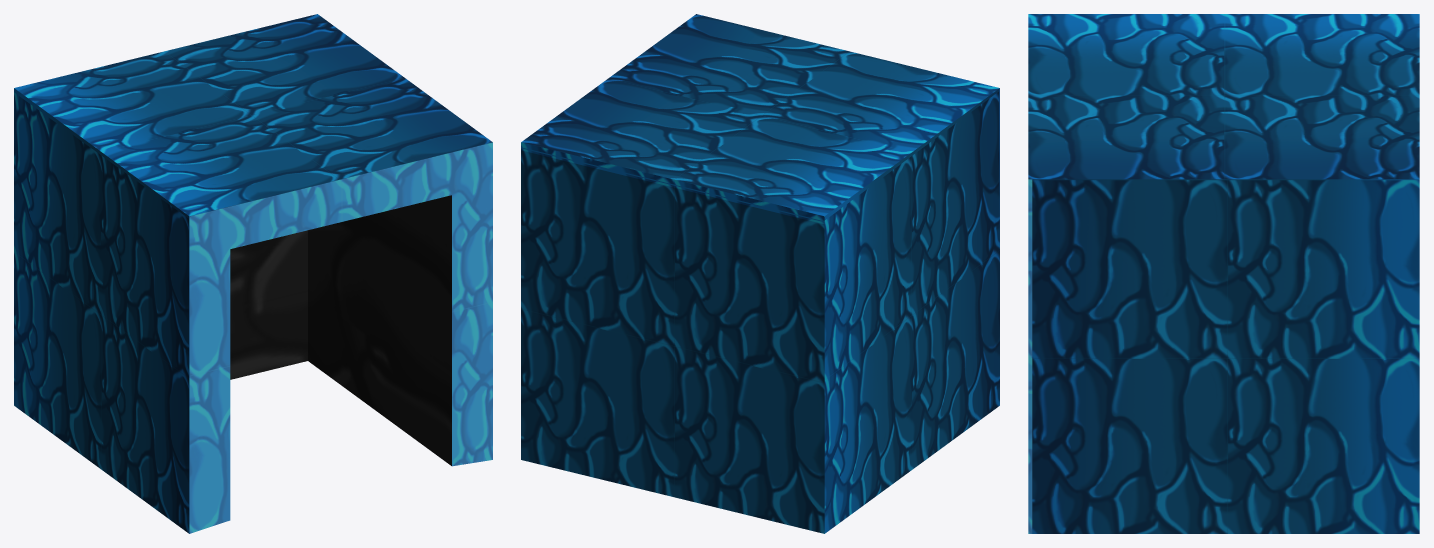
File: cave.fbx
3 views of the same model, side by side, from view 1: azimuth 30°, elevation 25°; view 2: azimuth 150°, elevation 25°; view 3: azimuth 270°, elevation 25° (orthographic). The views are drawn at different scales.
Parts seen in each view (by area): view 1: Cube; view 2: Cube; view 3: Cube.
Part boxes in pixels (bbox=[...]): Cube: bbox=[14, 14, 492, 533]; Cube: bbox=[521, 14, 999, 533]; Cube: bbox=[1028, 14, 1419, 533].
Bounding box in the file's own units: 200 × 200 × 200.
